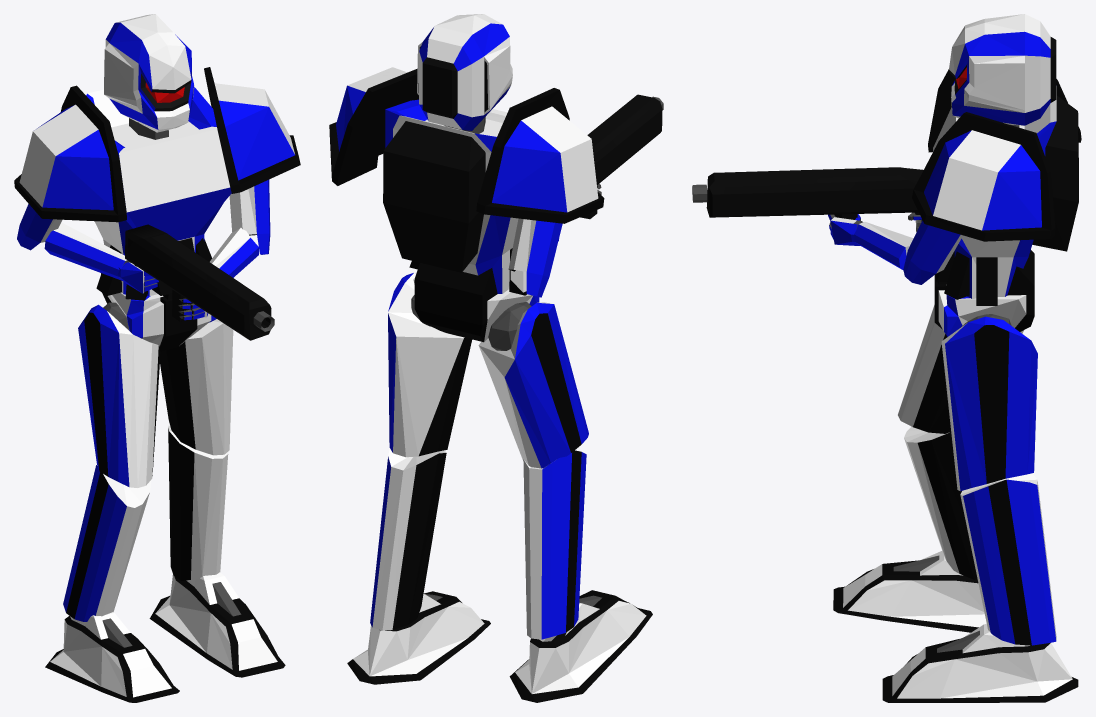
Rendered from robot_animation_000016.obj.
The picture shows the model from 3 angles, left to right: view 1: azimuth 30°, elevation 25°; view 2: azimuth 150°, elevation 25°; view 3: azimuth 270°, elevation 25°; orthographic projection. The views are drawn at different scales.
Parts seen in each view (by area): view 1: Chest_plate_Cube.004, R_Thigh_Cube.005, Cube.002_Cube.059, Head_base_Cube.022, R_Foot.002_Cube.035, R_Shin_Cube.007, R_Thigh.002_Cube.027, Cube_Cube.001, R_Shin.002_Cube.029, R_Foot_Cube, Cube_Cube.021, Pelvis_Cube.006 (+5 smaller); view 2: Chest_plate_Cube.004, Cube.002_Cube.059, R_Thigh_Cube.005, R_Thigh.002_Cube.027, R_Shin_Cube.007, R_Shin.002_Cube.029, Head_base_Cube.022, R_Foot_Cube, R_Foot.002_Cube.035, Cube_Cube.021, Pelvis_Cube.006, Cube_Cube.001 (+2 smaller); view 3: Cube_Cube.021, R_Thigh.002_Cube.027, R_Shin.002_Cube.029, R_Foot.002_Cube.035, Head_base_Cube.022, Cube_Cube.001, Chest_plate_Cube.004, R_Foot_Cube, R_Shin_Cube.007, R_Thigh_Cube.005, Pelvis_Cube.006, L_Arm_Cube.014 (+3 smaller).
Boxes of the visible parts, x1,y1,x2,y2 form: Chest_plate_Cube.004: (86, 87, 231, 300); R_Thigh_Cube.005: (78, 304, 160, 487); Cube.002_Cube.059: (14, 85, 126, 222); Head_base_Cube.022: (104, 14, 194, 132); R_Foot.002_Cube.035: (149, 572, 285, 677); R_Shin_Cube.007: (63, 465, 151, 621); R_Thigh.002_Cube.027: (160, 319, 233, 455); Cube_Cube.001: (125, 224, 274, 340); R_Shin.002_Cube.029: (168, 425, 228, 580); R_Foot_Cube: (45, 612, 179, 702); Cube_Cube.021: (204, 67, 300, 193); Pelvis_Cube.006: (101, 273, 216, 351); Chest_plate_Cube.004: (383, 99, 526, 295); Cube.002_Cube.059: (476, 88, 604, 223); R_Thigh_Cube.005: (478, 302, 588, 468); R_Thigh.002_Cube.027: (388, 272, 472, 457); R_Shin_Cube.007: (523, 450, 586, 639); R_Shin.002_Cube.029: (370, 448, 446, 630); Head_base_Cube.022: (417, 14, 512, 130); R_Foot_Cube: (509, 590, 652, 702); R_Foot.002_Cube.035: (347, 591, 490, 684); Cube_Cube.021: (329, 67, 418, 185); Pelvis_Cube.006: (413, 263, 539, 342); Cube_Cube.001: (580, 94, 663, 219); Cube_Cube.021: (912, 112, 1055, 241); R_Thigh.002_Cube.027: (941, 316, 1037, 491); R_Shin.002_Cube.029: (960, 473, 1056, 645); R_Foot.002_Cube.035: (882, 624, 1078, 702); Head_base_Cube.022: (949, 14, 1056, 125); Cube_Cube.001: (692, 167, 923, 221); Chest_plate_Cube.004: (933, 85, 1078, 305); R_Foot_Cube: (833, 551, 986, 632); R_Shin_Cube.007: (904, 426, 977, 579); R_Thigh_Cube.005: (898, 305, 1023, 433); Pelvis_Cube.006: (934, 250, 1034, 336); L_Arm_Cube.014: (903, 220, 962, 284).
Size of the model in its own units: 1.32 by 3.05 by 1.68.
